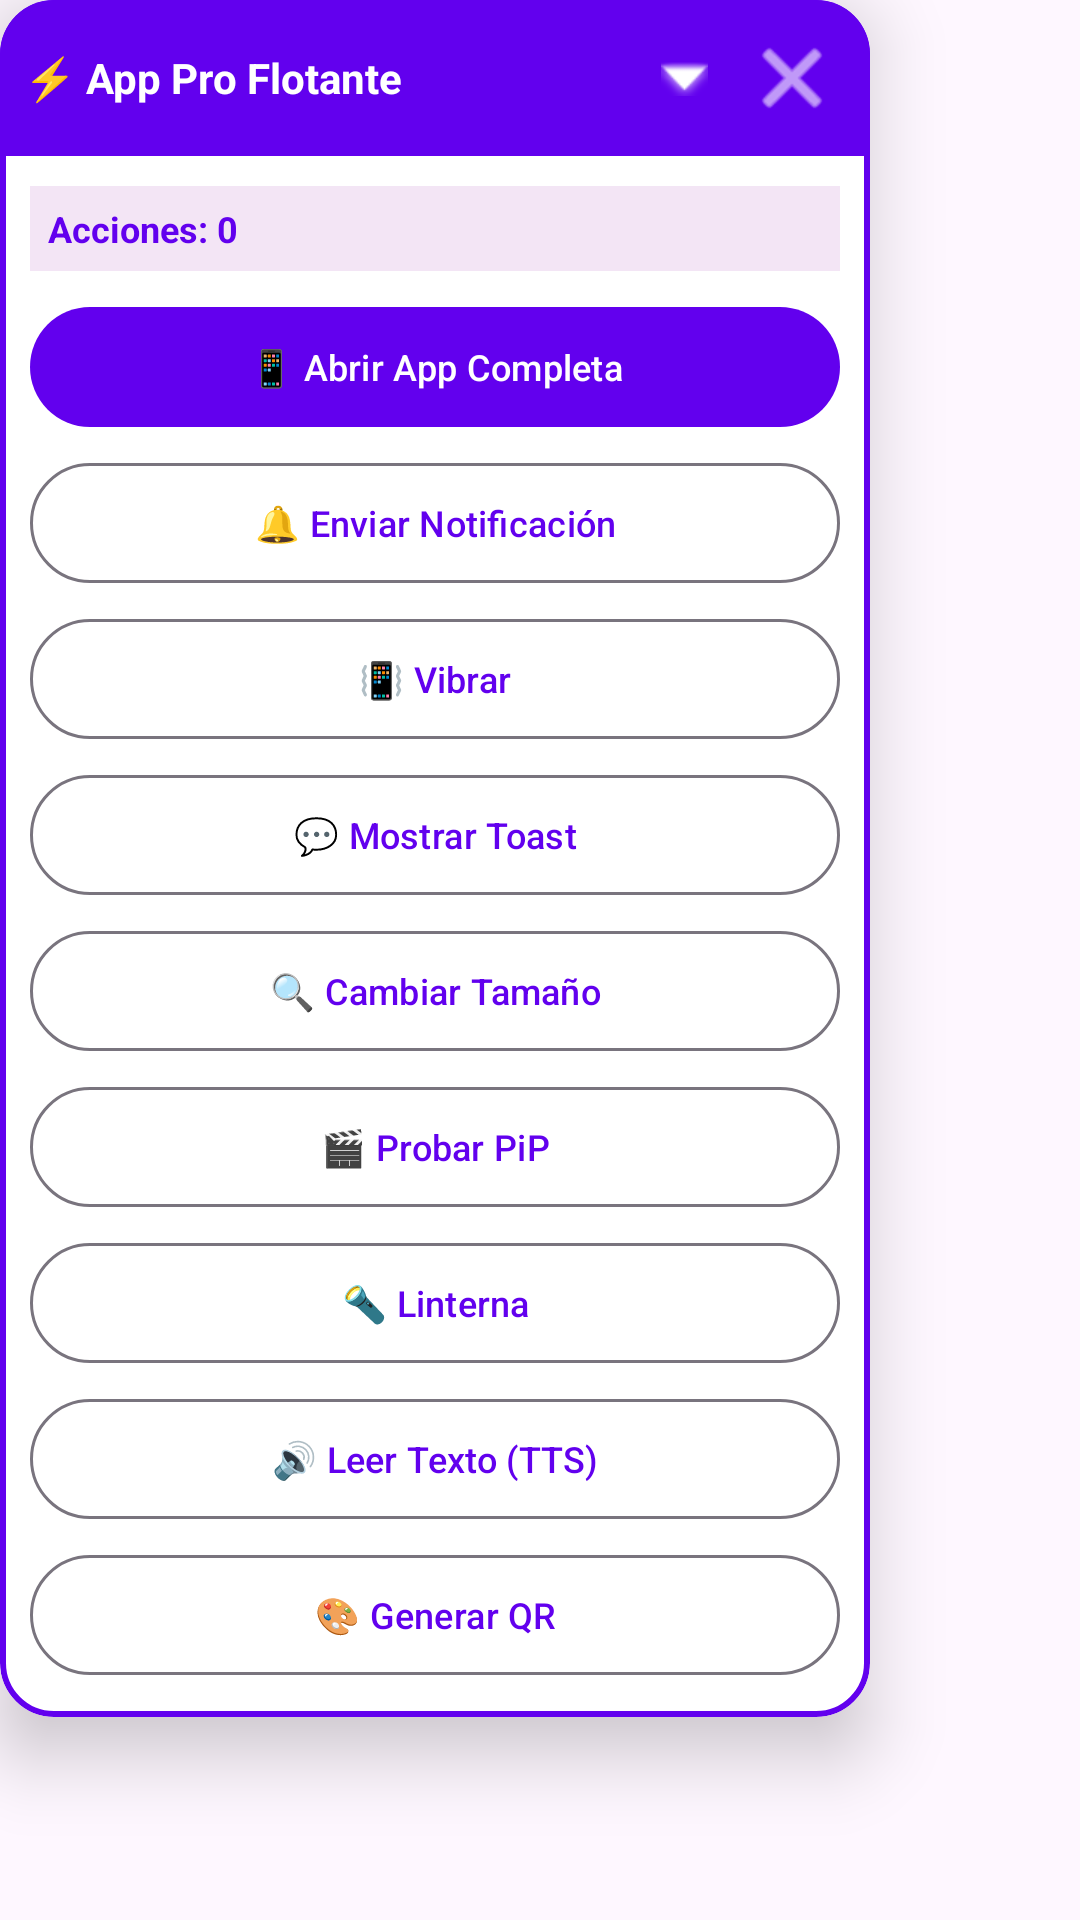

Named icons in this screenshot (1080px x 1920px) and their bounding boxes, (x1, y1, x2, y2):
Cerrar: (762, 48, 822, 108)
Minimizar: (661, 63, 708, 95)
